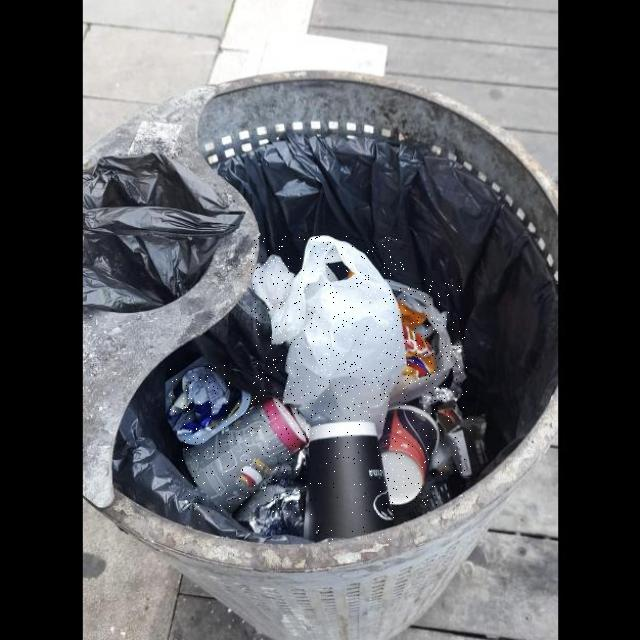paper: (183, 398, 306, 515), (310, 421, 395, 544), (381, 404, 439, 507), (170, 365, 230, 414), (438, 407, 474, 477)
plastic: (252, 236, 406, 440), (385, 279, 467, 401)
